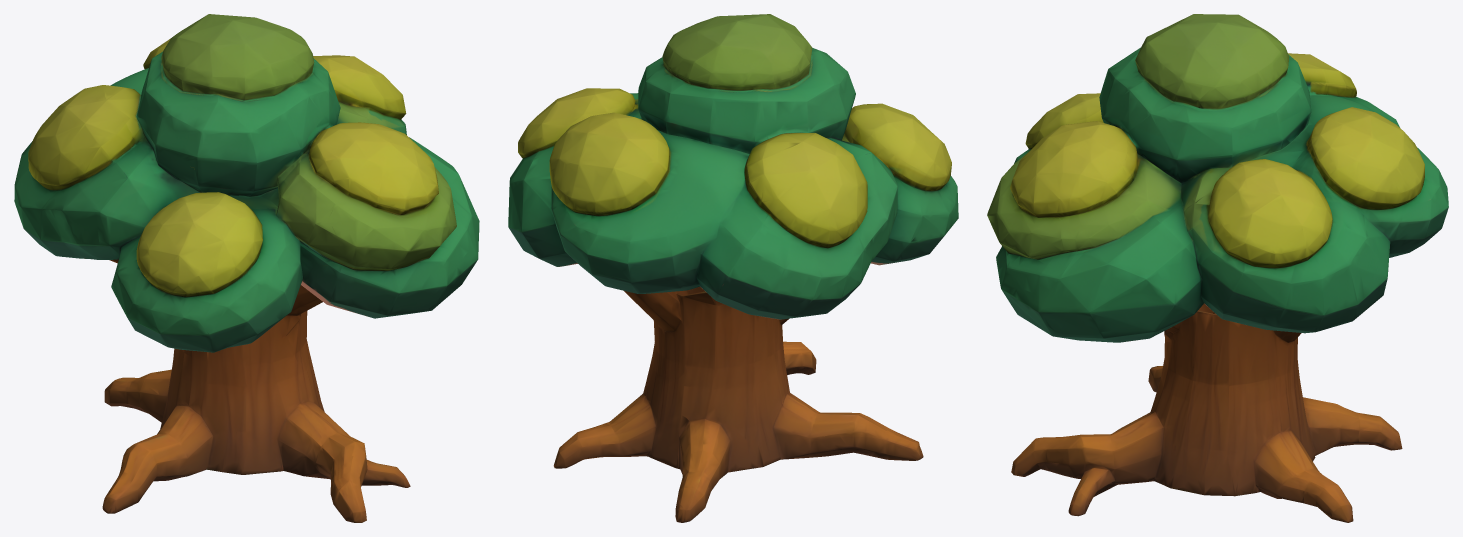
File: oak-a.glb
3 renders of one model, left to right at view 1: azimuth 30°, elevation 25°; view 2: azimuth 150°, elevation 25°; view 3: azimuth 270°, elevation 25°, orthographic. The views are drawn at different scales.
Visible parts, largest first — view 1: node_0; view 2: node_0; view 3: node_0.
Part boxes in pixels (x1,y1,x2,y2): node_0: (14, 14, 479, 522); node_0: (508, 14, 958, 522); node_0: (987, 14, 1448, 522).
Size of the model in its own units: 0.775 by 0.9265 by 0.8779.
Materials: 1 (1 with a texture image).
